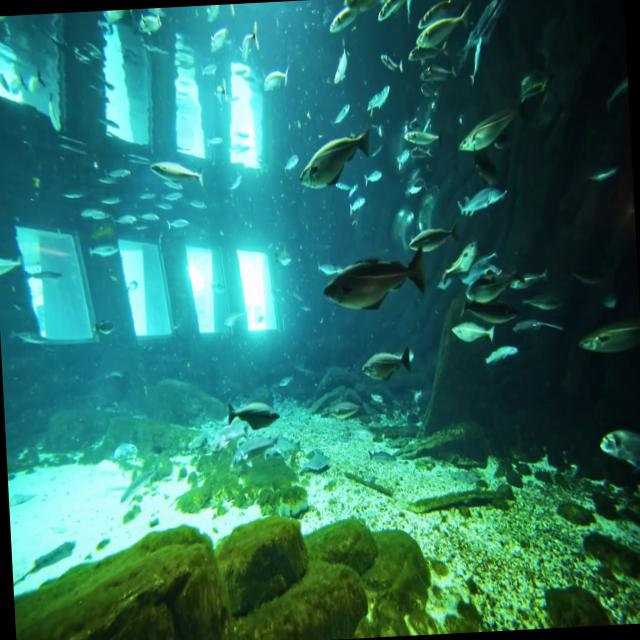fish: (320, 247, 426, 318), (298, 126, 372, 186), (456, 96, 534, 150), (413, 0, 482, 55), (463, 262, 525, 310), (579, 315, 640, 354), (451, 178, 509, 219), (436, 238, 481, 288), (362, 343, 414, 384), (150, 158, 206, 193), (224, 397, 279, 432), (404, 225, 456, 259), (450, 318, 496, 350), (403, 128, 446, 152)
